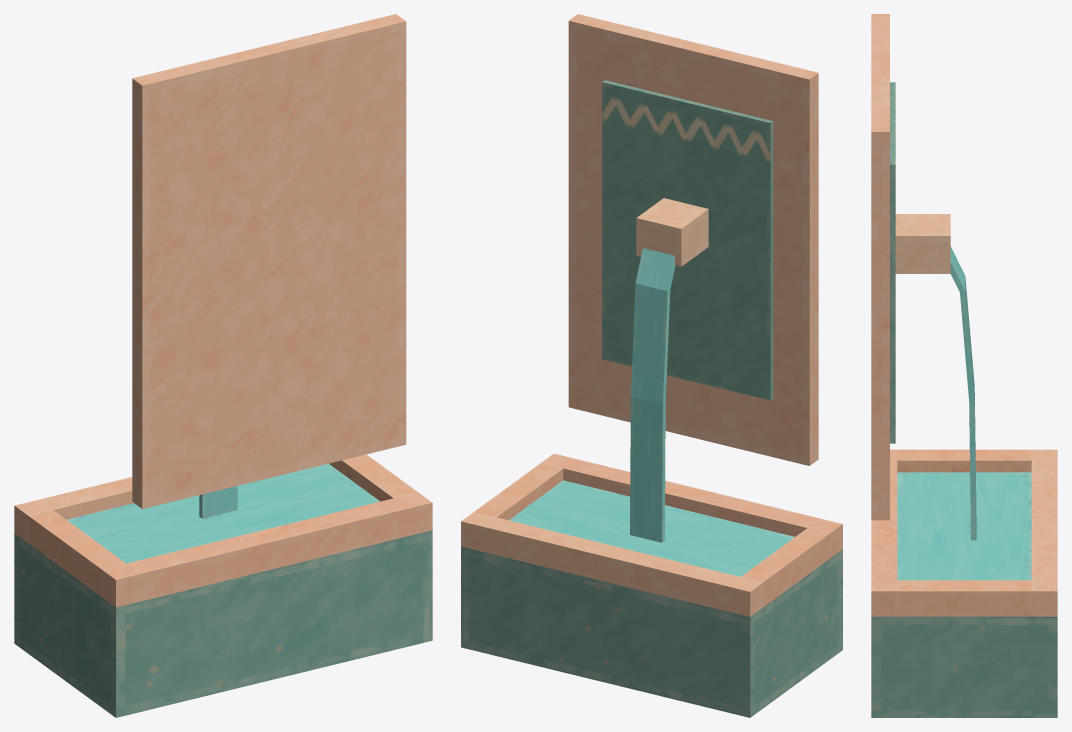
File: spout.bundle.fbx
3 views of the same model, side by side, from view 1: azimuth 30°, elevation 25°; view 2: azimuth 150°, elevation 25°; view 3: azimuth 270°, elevation 25° (orthographic). The views are drawn at different scales.
Parts seen in each view (by area): view 1: spout, spout_low, spout_s00, spout_s01, spout_s03, spout_s02, spout_s04; view 2: spout, spout_low, spout_s01, spout_s04, spout_s03, spout_s02, spout_s00, spout_s05; view 3: spout, spout_low, spout_s01, spout_s03, spout_s02.
Boxes of the visible parts, x1,y1,x2,y2 form: spout: (14,17,432,710); spout_low: (14,14,432,717); spout_s00: (132,142,332,484); spout_s01: (118,389,432,670); spout_s03: (17,472,190,717); spout_s02: (247,48,406,280); spout_s04: (132,22,406,171); spout: (461,17,842,711); spout_low: (461,14,842,717); spout_s01: (461,382,759,664); spout_s04: (568,21,818,163); spout_s03: (657,433,836,717); spout_s02: (568,50,706,343); spout_s00: (809,150,818,433); spout_s05: (569,328,738,440); spout: (871,16,1057,712); spout_low: (871,14,1057,717); spout_s01: (871,431,1057,591); spout_s03: (890,449,1057,505); spout_s02: (871,160,968,461).
Bounding box in the file's own units: 3.6 × 6.8 × 2.
1 material, 1 textured.
